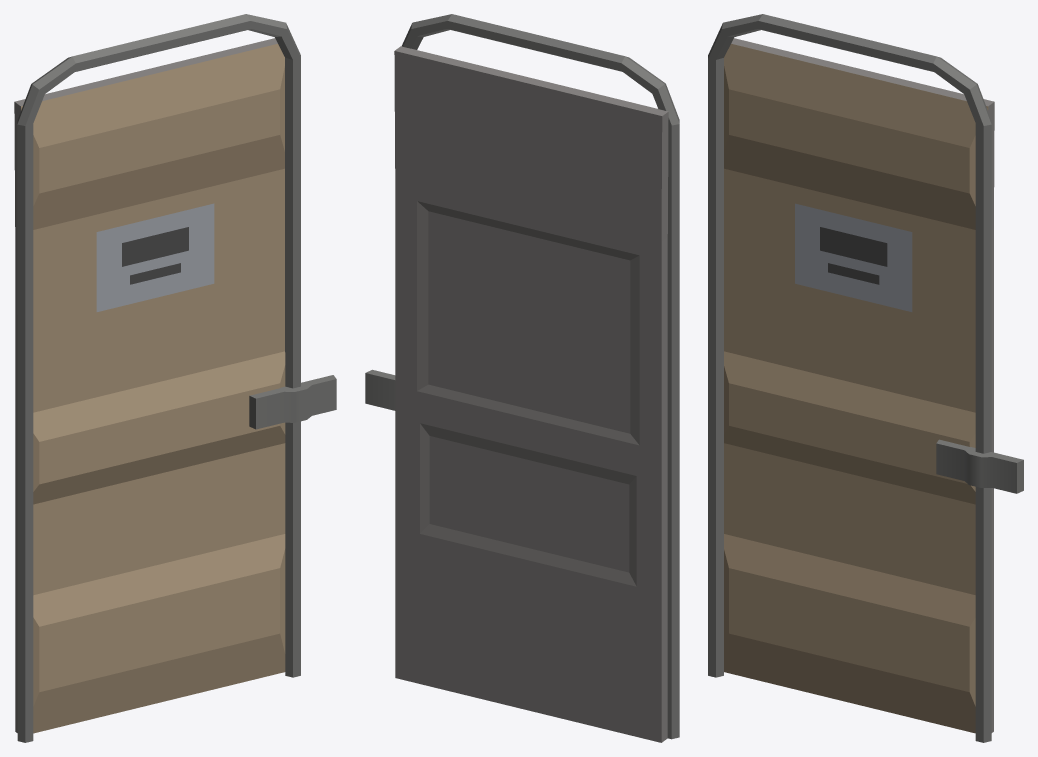
File: SM_Prop_Portaloo_Door_01.glb
The picture shows the model from 3 angles, left to right: view 1: azimuth 30°, elevation 25°; view 2: azimuth 150°, elevation 25°; view 3: azimuth 330°, elevation 25°; orthographic projection.
Visible parts, largest first — view 1: SM_Prop_Portaloo_Door_01; view 2: SM_Prop_Portaloo_Door_01; view 3: SM_Prop_Portaloo_Door_01.
Part boxes in pixels (<box>): SM_Prop_Portaloo_Door_01: <box>14,14,336,742</box>; SM_Prop_Portaloo_Door_01: <box>365,14,679,742</box>; SM_Prop_Portaloo_Door_01: <box>708,14,1023,742</box>.
Bounding box in the file's own units: 1.24 × 2.51 × 0.124.
Materials: 1 (1 with a texture image).
